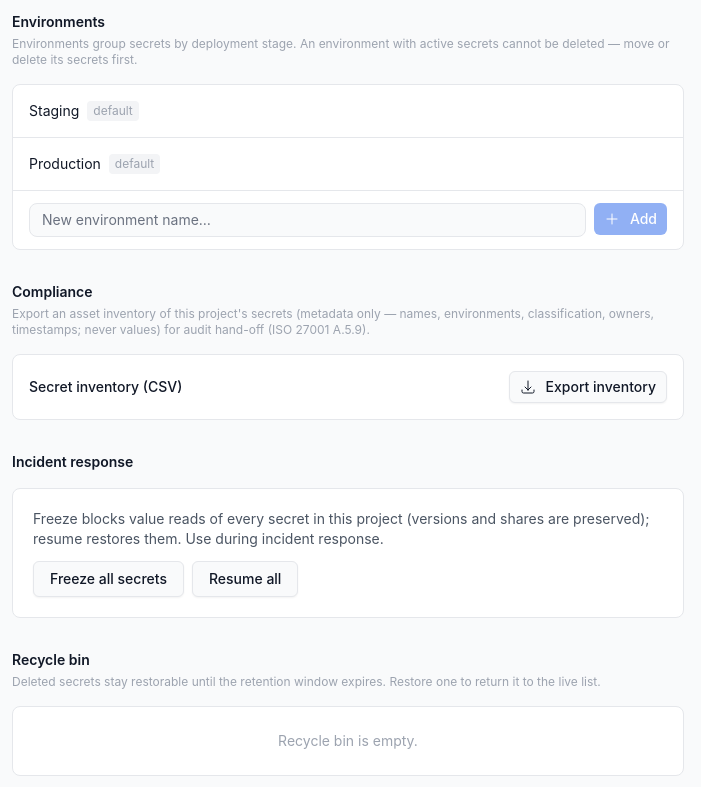
Scenario: ProjectSettingsTab — promote environment › falls back to a generic message when the inventory export failure has neither
The width and height of the screenshot is (701, 787).
(page scrolled)
Click the button "Export inventory" at (588, 387), box left=509, top=371, right=667, bottom=403
(page scrolled)
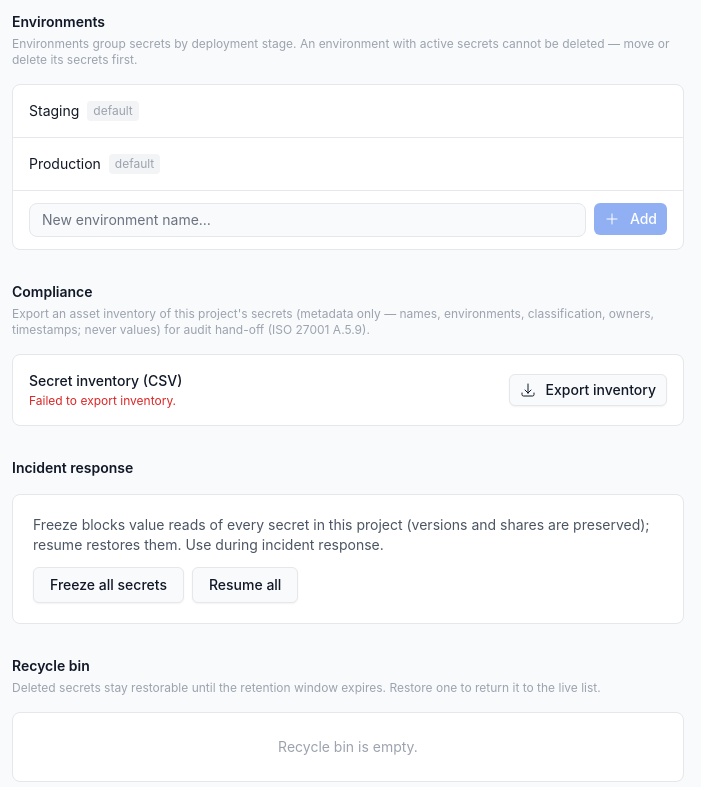
Expected: the text "Failed to export inventory." is shown, left=29, top=393, right=182, bottom=409
